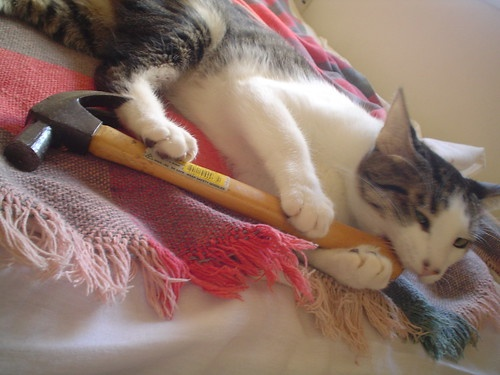hammer: (3, 84, 401, 294)
